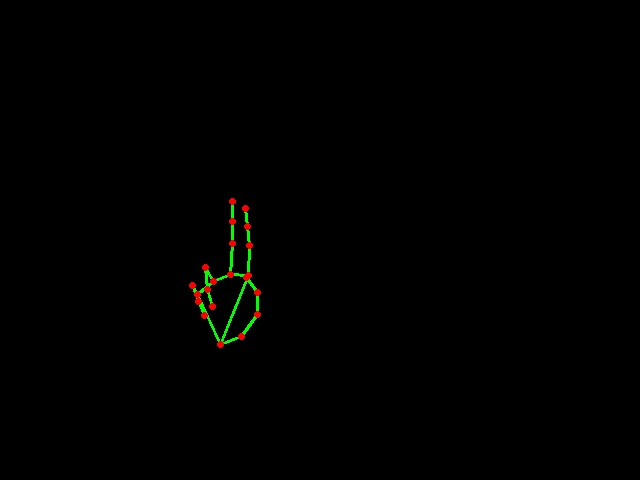forward: (181, 182, 273, 354)
